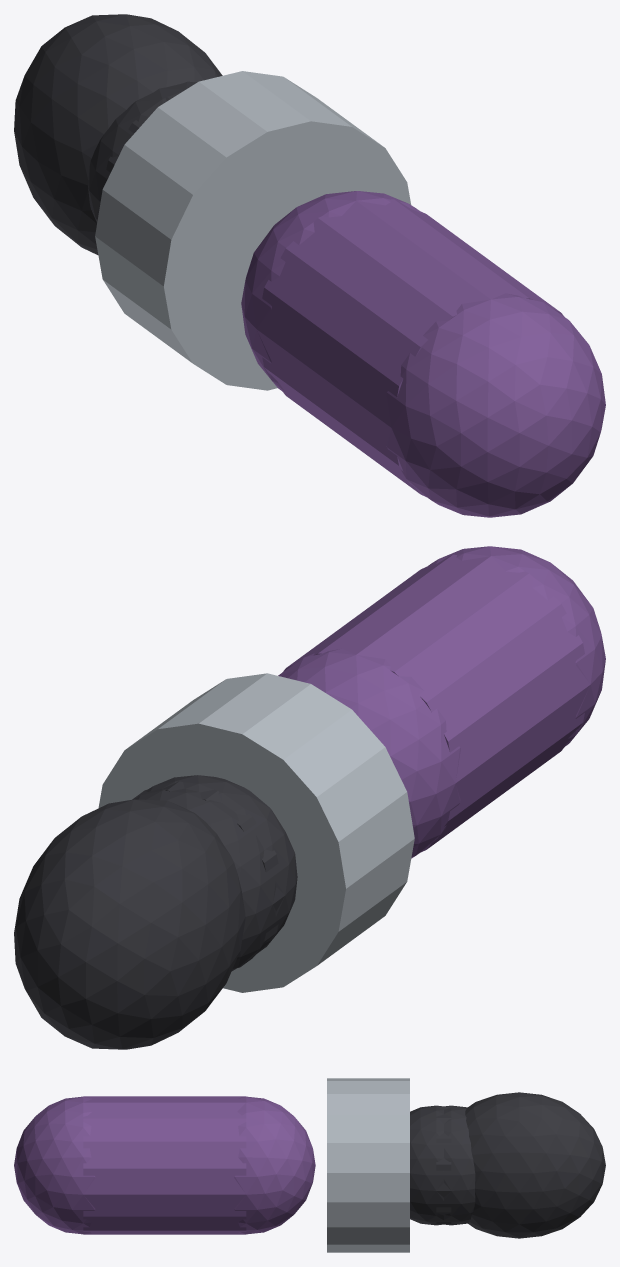
Rendered from primm_left_lower_arm.glb.
3 views of the same model, one above another, from view 1: azimuth 30°, elevation 25°; view 2: azimuth 150°, elevation 25°; view 3: azimuth 270°, elevation 25° (orthographic). The views are drawn at different scales.
Parts seen in each view (by area): view 1: geometry_0; view 2: geometry_0; view 3: geometry_0.
Part boxes in pixels (box(x1,y1,x2,y2)): geometry_0: box(14, 14, 605, 517); geometry_0: box(14, 546, 605, 1049); geometry_0: box(14, 1078, 605, 1252).
Size of the model in its own units: 0.116 by 0.1142 by 0.3925.
